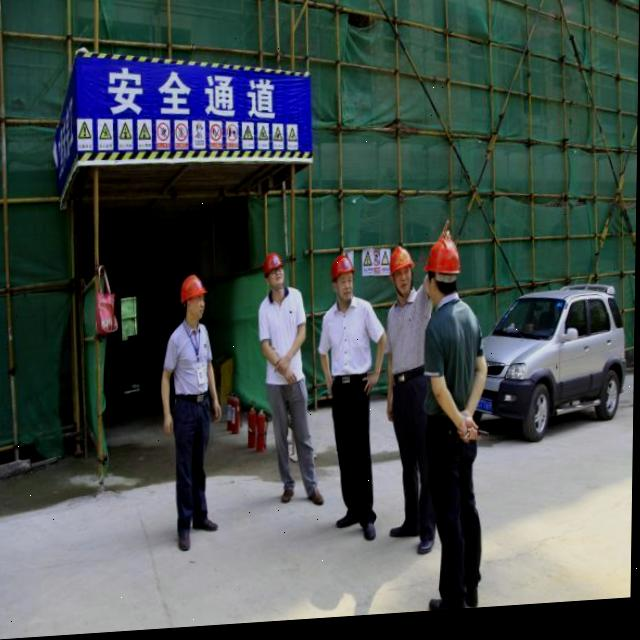Helmet: (424, 241, 462, 281), (181, 275, 208, 306), (389, 250, 415, 281), (331, 259, 355, 285), (263, 256, 283, 280)
No-Glove: (455, 416, 480, 450)
